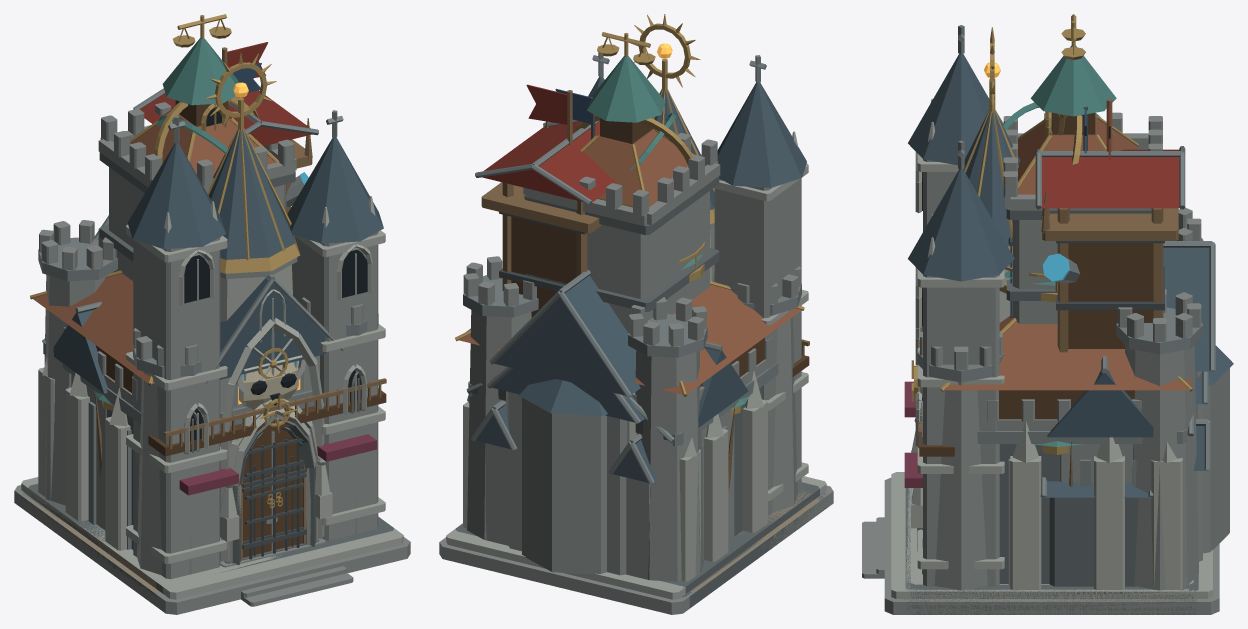
The model's file is village_buildings.glb.
3 renders of one model, left to right at view 1: azimuth 30°, elevation 25°; view 2: azimuth 150°, elevation 25°; view 3: azimuth 270°, elevation 25°, orthographic. The views are drawn at different scales.
Visible parts, largest first — view 1: VIL_CATHEDRAL_CHAPEL, VIL_IRON_CHAPEL, VIL_MARKET_CHAPEL, VIL_DAWN_CHAPEL, VIL_OUTLAWS_CHAPEL, VIL_SEEKERS_CHAPEL; view 2: VIL_CATHEDRAL_CHAPEL, VIL_IRON_CHAPEL, VIL_OUTLAWS_CHAPEL, VIL_MARKET_CHAPEL, VIL_DAWN_CHAPEL, VIL_SEEKERS_CHAPEL; view 3: VIL_CATHEDRAL_CHAPEL, VIL_IRON_CHAPEL, VIL_OUTLAWS_CHAPEL, VIL_MARKET_CHAPEL, VIL_SEEKERS_CHAPEL, VIL_DAWN_CHAPEL.
Boxes of the visible parts, box(x1,y1,x2,y2) form: VIL_CATHEDRAL_CHAPEL: box(14, 110, 410, 614); VIL_IRON_CHAPEL: box(24, 63, 394, 596); VIL_MARKET_CHAPEL: box(28, 14, 386, 592); VIL_DAWN_CHAPEL: box(96, 53, 315, 581); VIL_OUTLAWS_CHAPEL: box(22, 42, 318, 597); VIL_SEEKERS_CHAPEL: box(30, 96, 319, 563); VIL_CATHEDRAL_CHAPEL: box(439, 53, 833, 614); VIL_IRON_CHAPEL: box(455, 88, 824, 585); VIL_OUTLAWS_CHAPEL: box(466, 84, 825, 608); VIL_MARKET_CHAPEL: box(455, 32, 819, 591); VIL_DAWN_CHAPEL: box(471, 14, 741, 579); VIL_SEEKERS_CHAPEL: box(574, 113, 804, 541); VIL_CATHEDRAL_CHAPEL: box(862, 25, 1233, 614); VIL_IRON_CHAPEL: box(908, 106, 1203, 614); VIL_OUTLAWS_CHAPEL: box(901, 98, 1198, 614); VIL_MARKET_CHAPEL: box(904, 14, 1192, 614); VIL_SEEKERS_CHAPEL: box(911, 102, 1188, 589); VIL_DAWN_CHAPEL: box(875, 27, 1210, 584).
Size of the model in its own units: 6.24 by 12.29 by 7.77.
